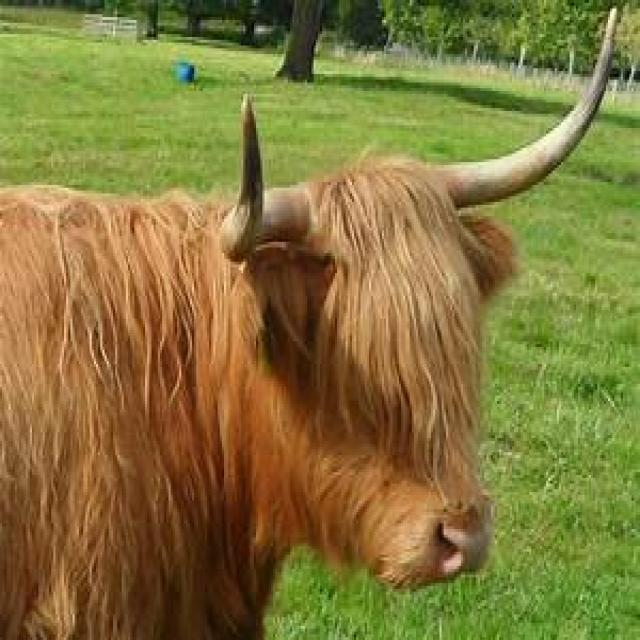cow: (0, 51, 606, 640)
